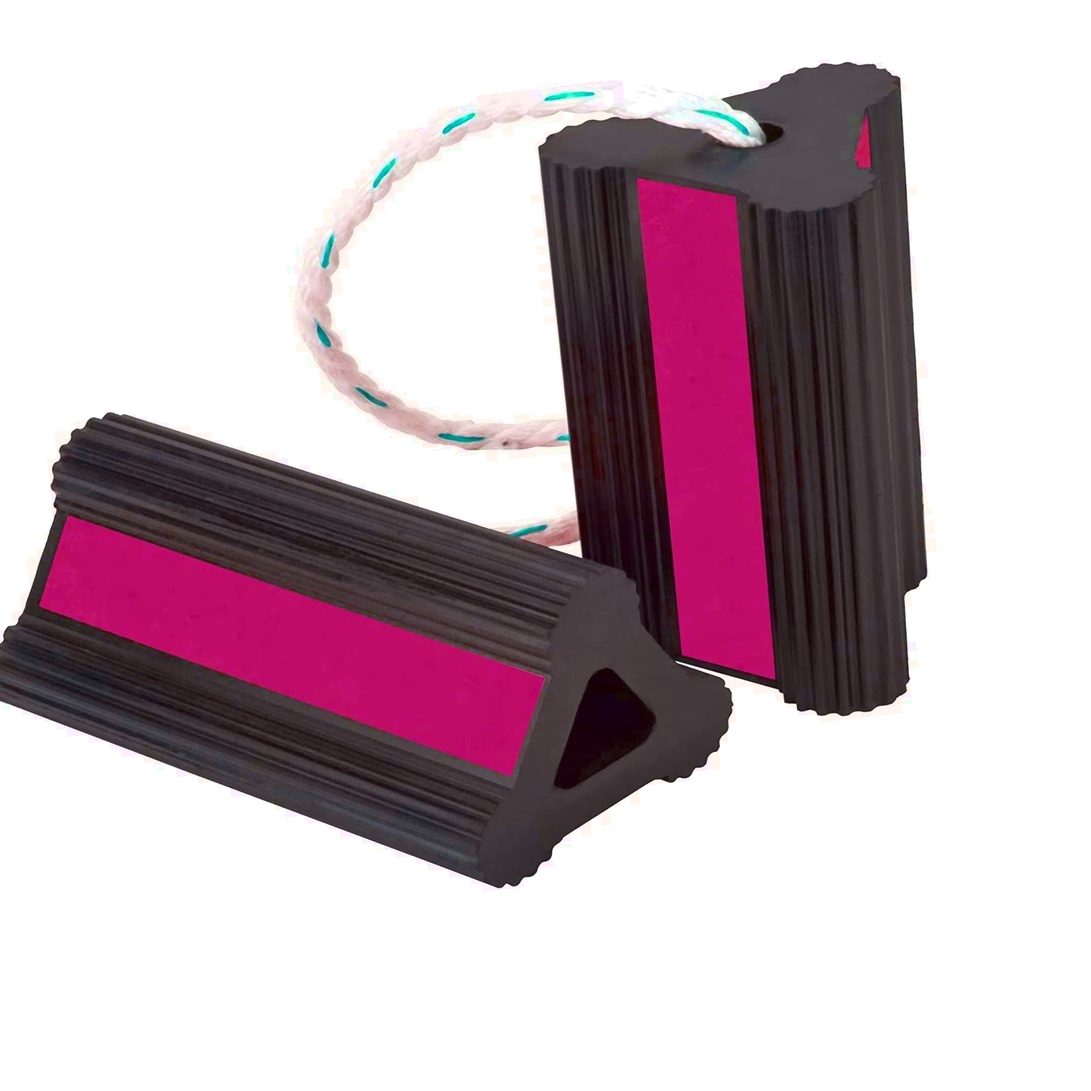chock: (0, 337, 749, 948), (525, 44, 989, 744)
